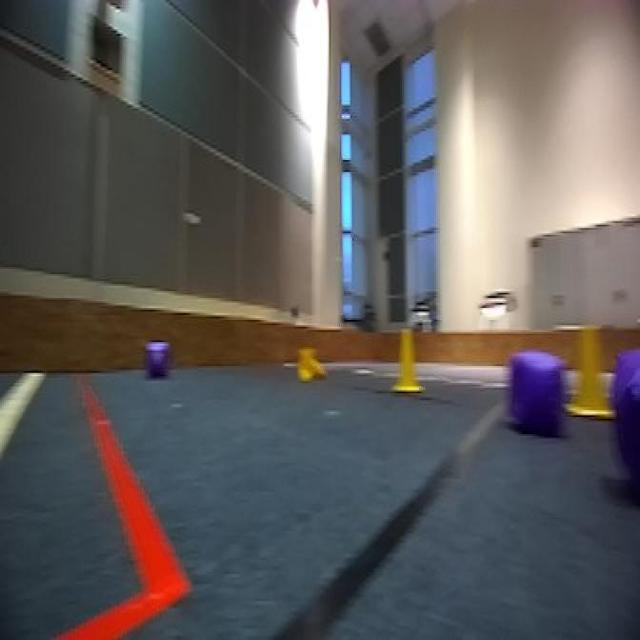frc_cone: (570, 330, 612, 417), (388, 325, 424, 393), (294, 342, 329, 383)
frc_cube: (599, 318, 640, 514), (510, 342, 570, 439), (144, 340, 168, 383)
